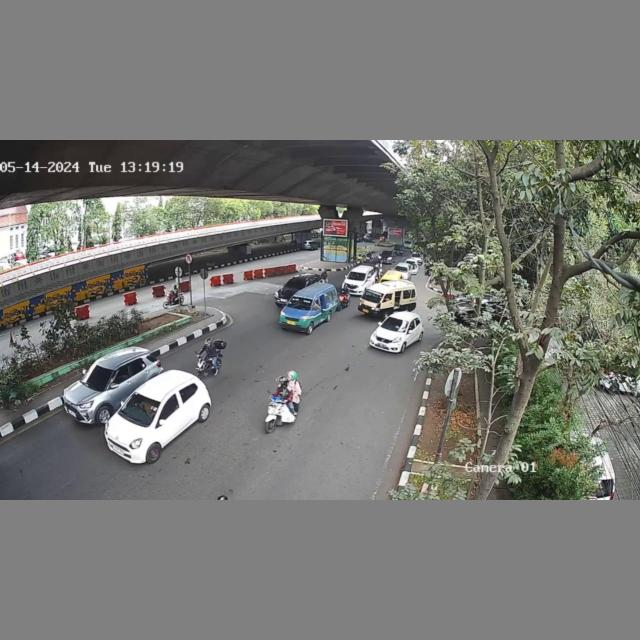windshield: (120, 394, 160, 424), (79, 362, 114, 390), (381, 316, 411, 333), (286, 294, 312, 311)
